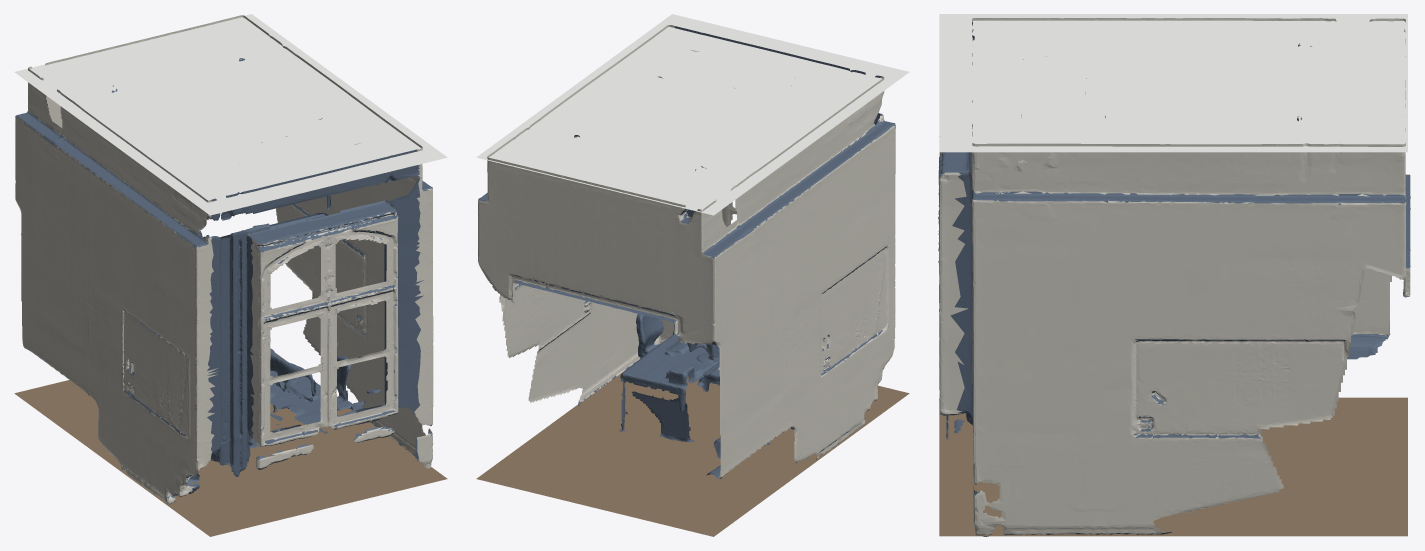
File: office_scan_room.obj
The picture shows the model from 3 angles, left to right: view 1: azimuth 30°, elevation 25°; view 2: azimuth 150°, elevation 25°; view 3: azimuth 270°, elevation 25°; orthographic projection. The views are drawn at different scales.
Visible parts, largest first — view 1: part_1, part_2, part_3, part_0; view 2: part_1, part_2, part_0, part_3; view 3: part_1, part_2, part_0, part_3.
Boxes of the visible parts, <box> form: part_1: <box>15,15,433,503</box>; part_2: <box>14,14,447,215</box>; part_3: <box>16,58,432,504</box>; part_0: <box>14,352,447,536</box>; part_1: <box>478,25,895,478</box>; part_2: <box>476,14,909,215</box>; part_0: <box>476,373,909,536</box>; part_3: <box>478,26,895,478</box>; part_1: <box>938,18,1410,535</box>; part_2: <box>939,14,1407,152</box>; part_0: <box>939,397,1407,536</box>; part_3: <box>938,20,1410,536</box>.
Bounding box in the file's own units: 124 × 162 × 178.
